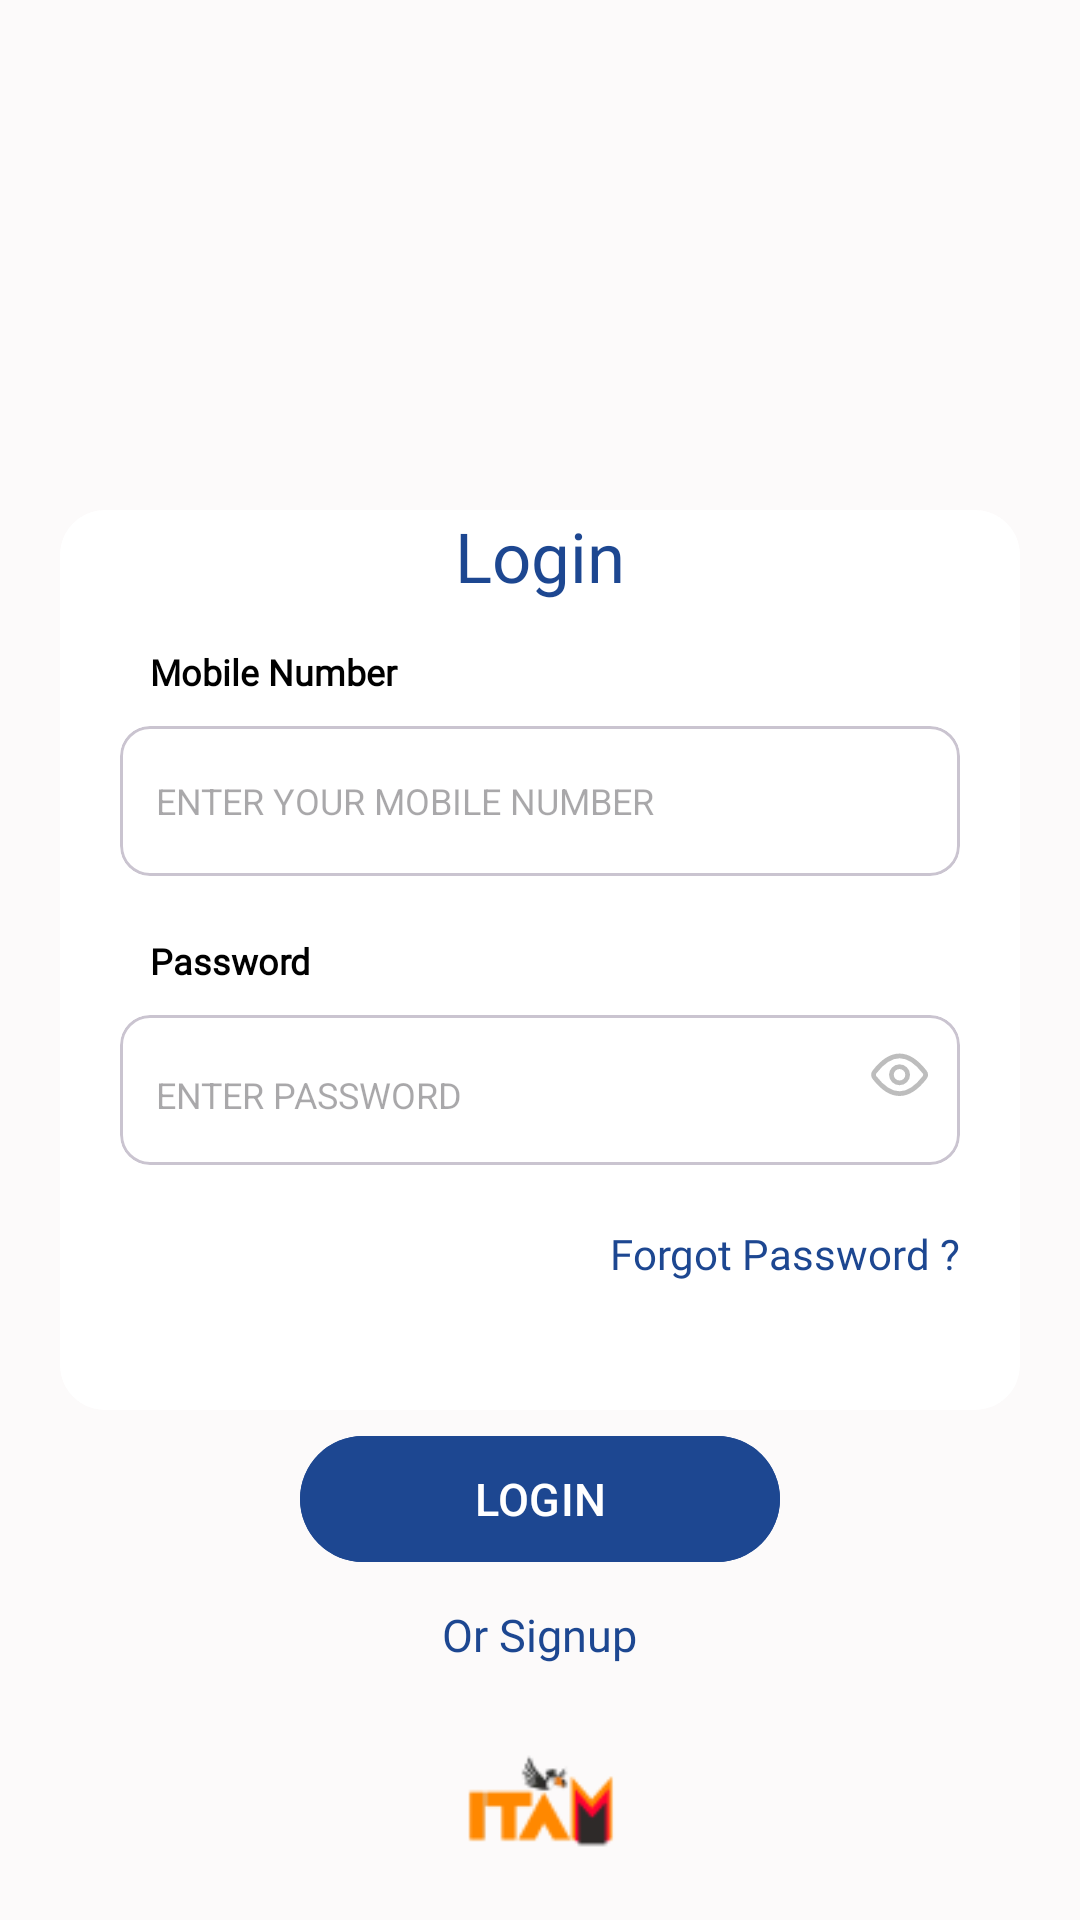

Screen size 1080x1920. Icon name, then its center in pixels as point (x, y):
eye: point (899, 1074)
